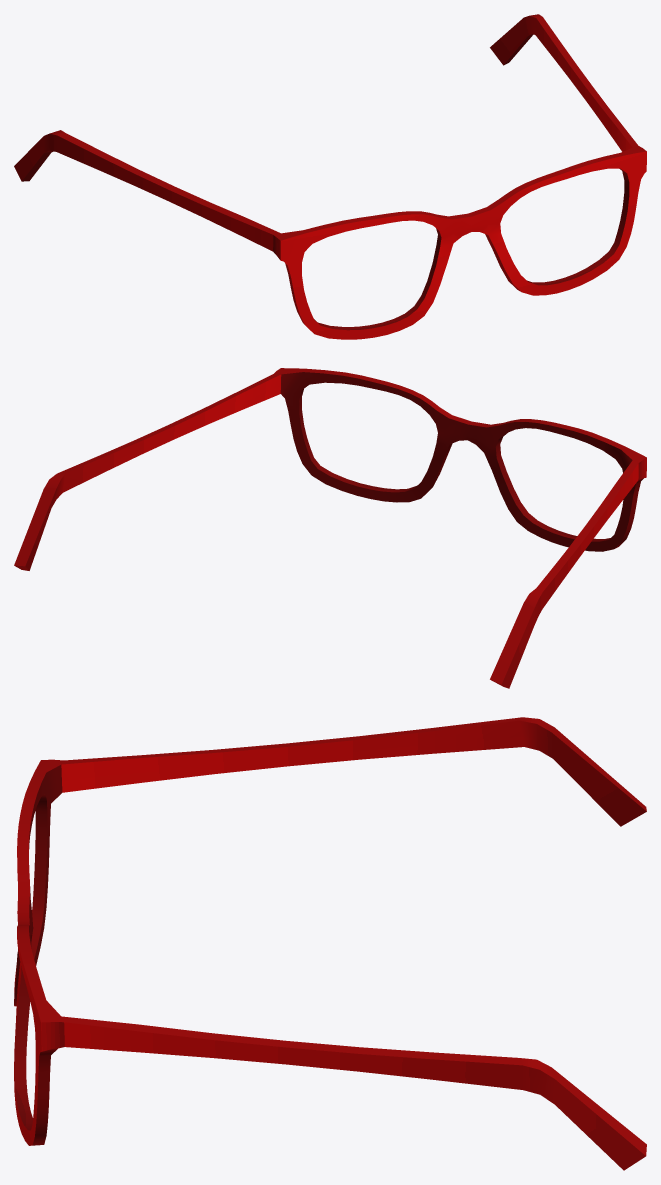
File: BSMC_Outfit_Face_SimpleGlasses.fbx
3 views of the same model, one above another, from view 1: azimuth 30°, elevation 25°; view 2: azimuth 150°, elevation 25°; view 3: azimuth 270°, elevation 25° (orthographic). The views are drawn at different scales.
Visible parts, largest first — view 1: BSMC_Outfit_Face_SimpleGlasses; view 2: BSMC_Outfit_Face_SimpleGlasses; view 3: BSMC_Outfit_Face_SimpleGlasses.
Boxes of the visible parts, x1,y1,x2,y2 form: BSMC_Outfit_Face_SimpleGlasses: (14, 14, 646, 339); BSMC_Outfit_Face_SimpleGlasses: (14, 368, 646, 688); BSMC_Outfit_Face_SimpleGlasses: (14, 717, 646, 1170).
Bounding box in the file's own units: 19.37 × 4.48 × 14.74.
Materials: 1 (1 with a texture image).
